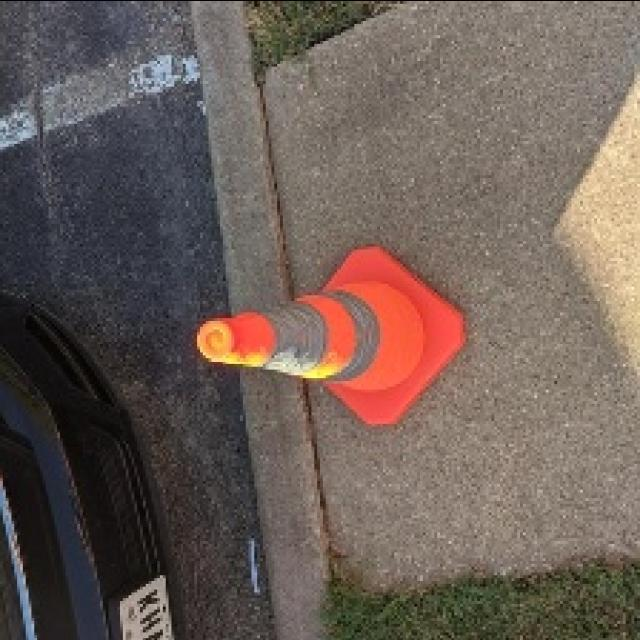traffic cone: (194, 245, 466, 427)
